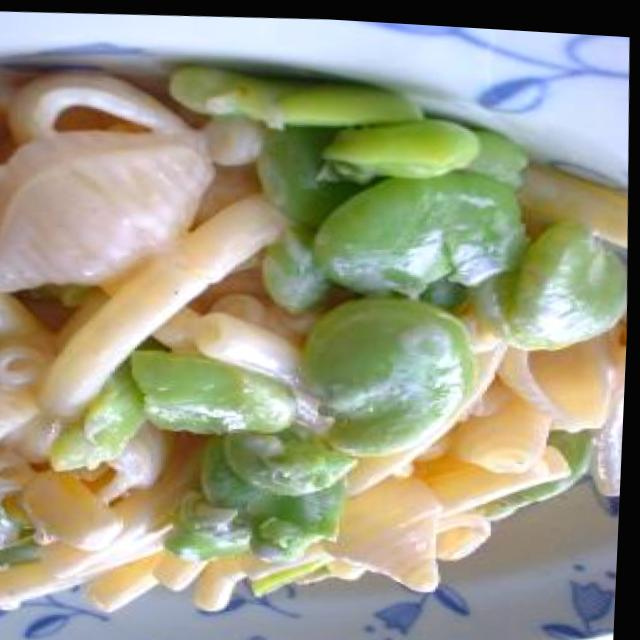蔬菜料理: (0, 11, 640, 640)
